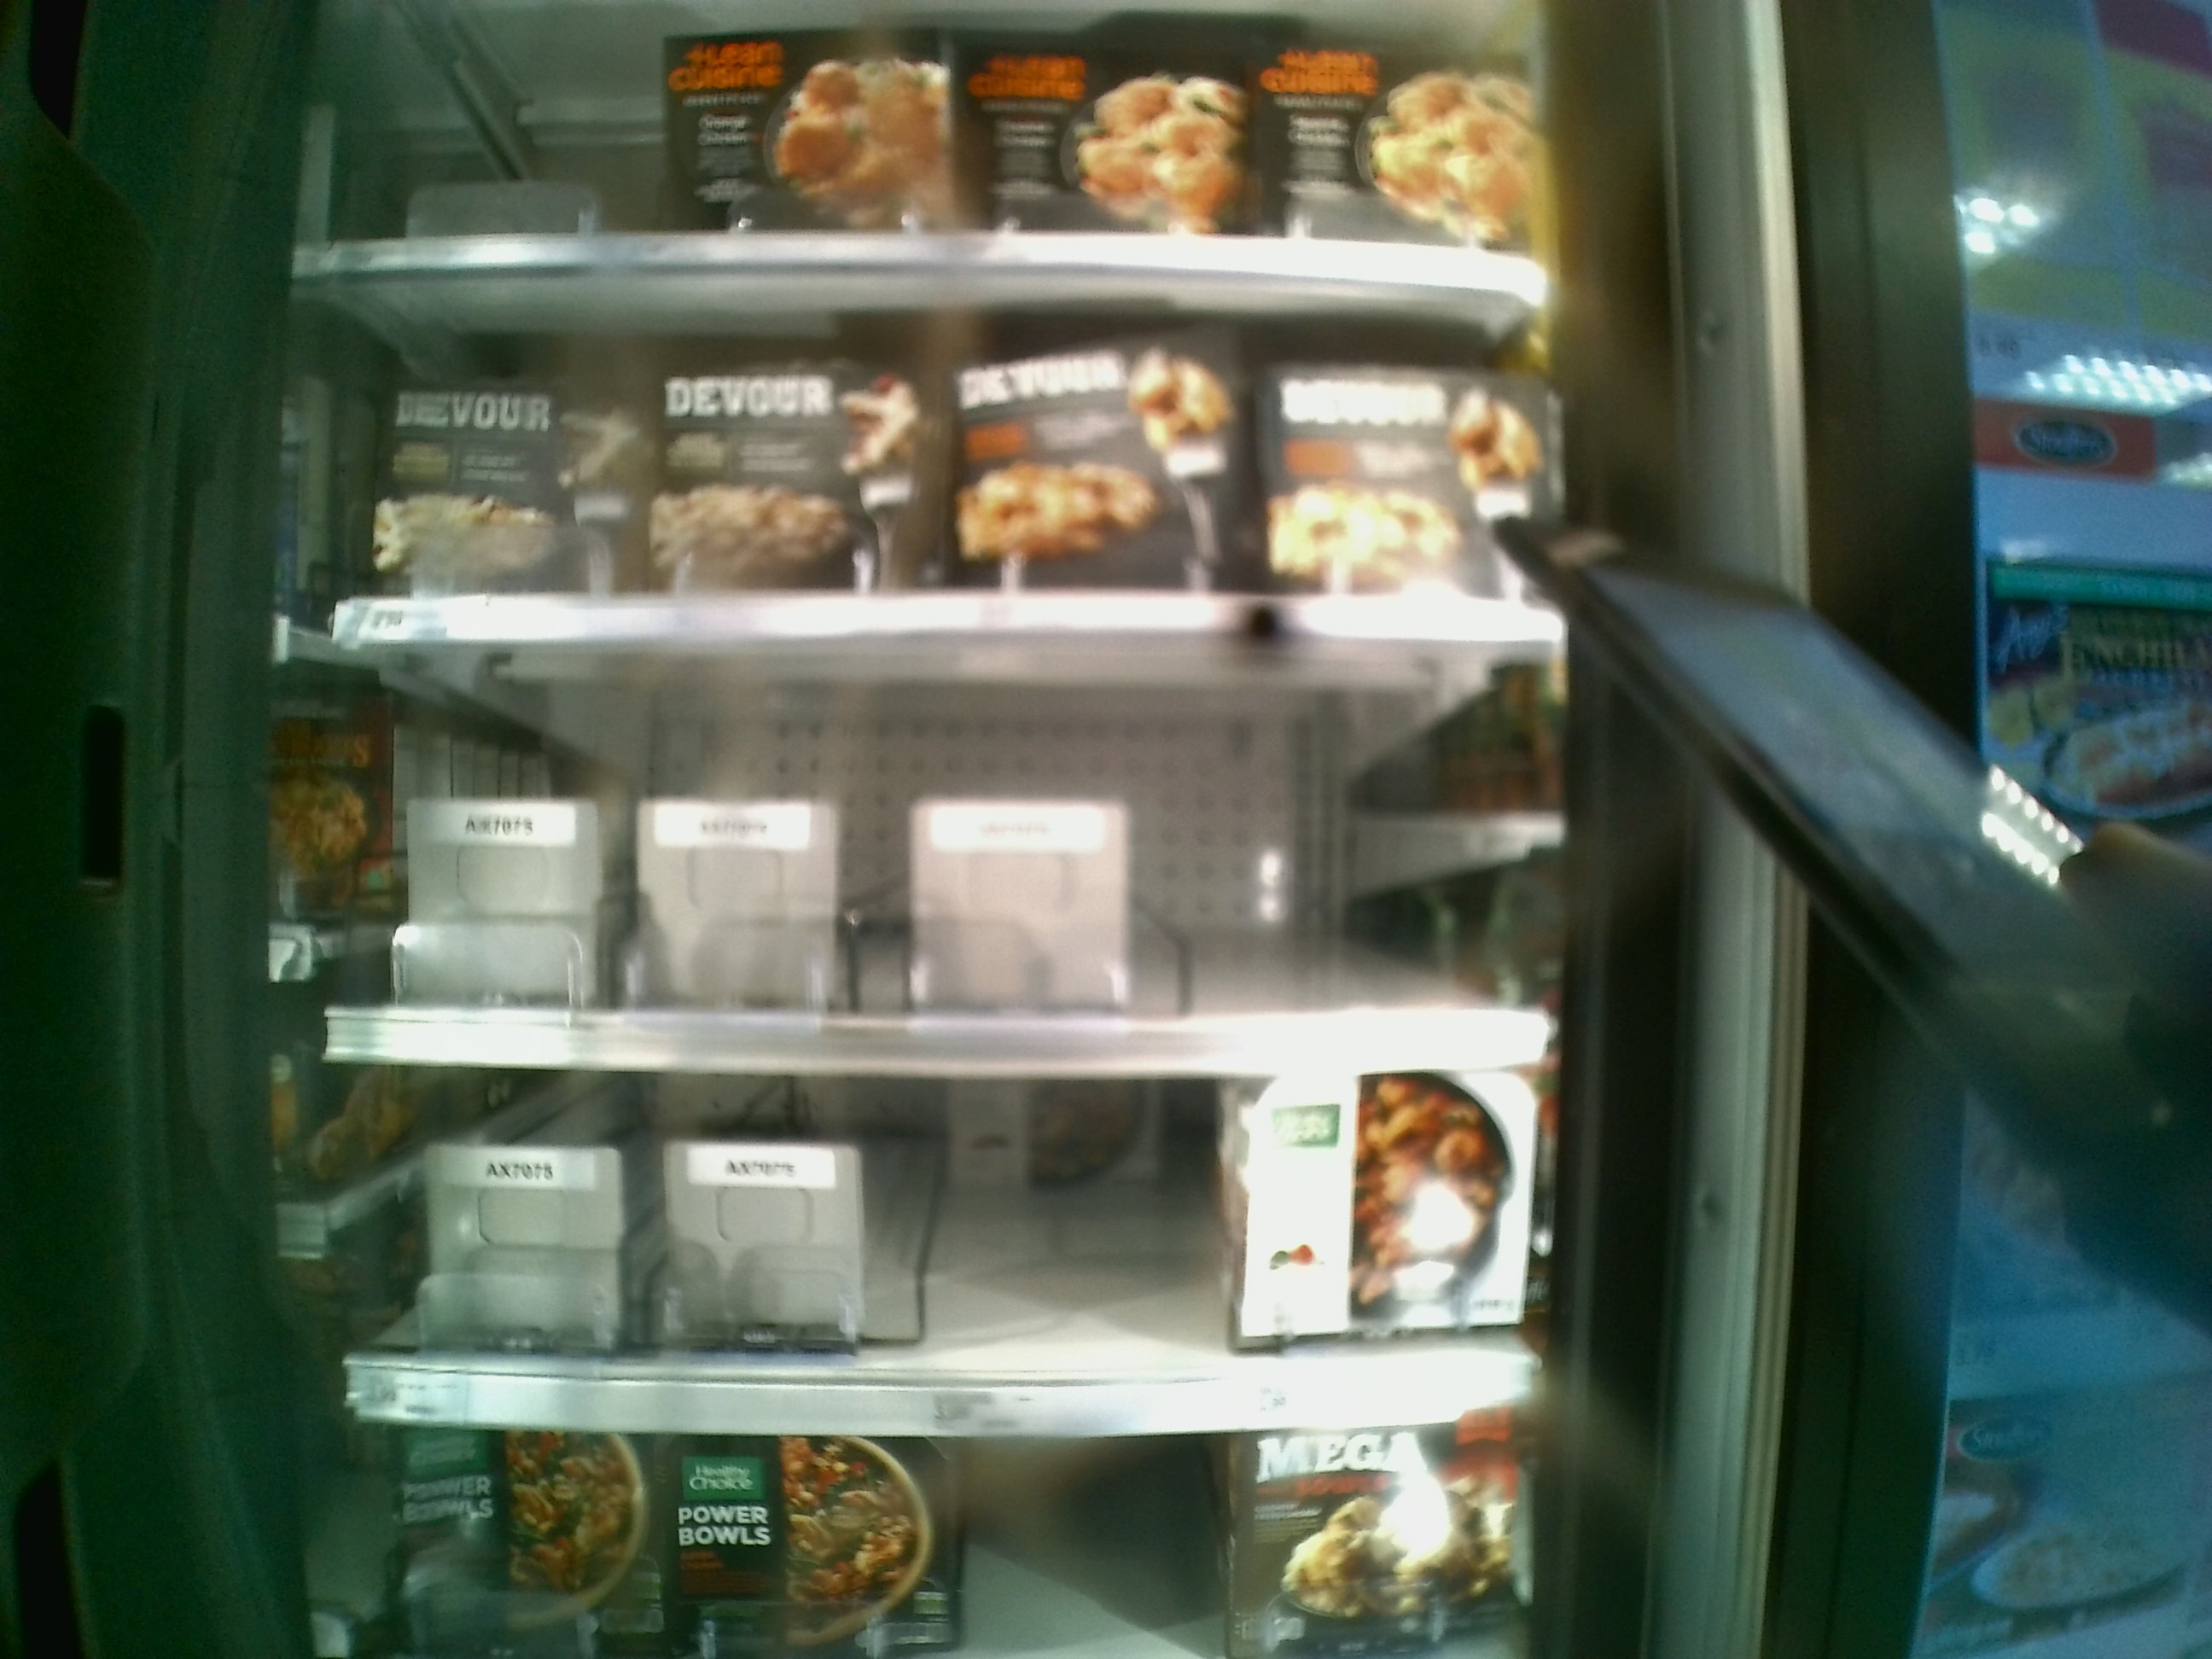Shelf: (319, 636, 1559, 1082), (320, 1053, 1548, 1436)
